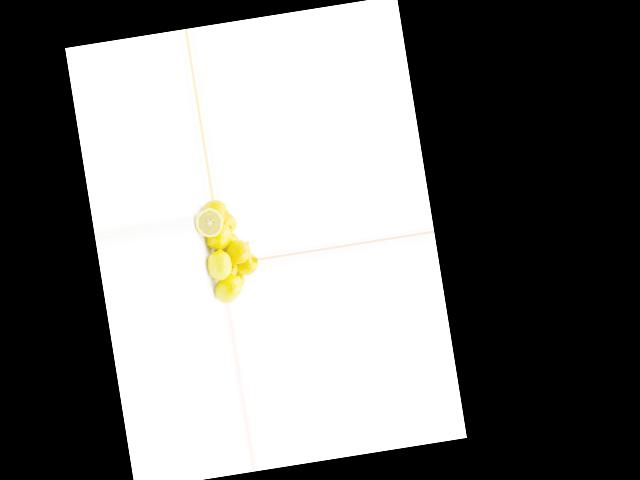lemon: (202, 199, 228, 224)
